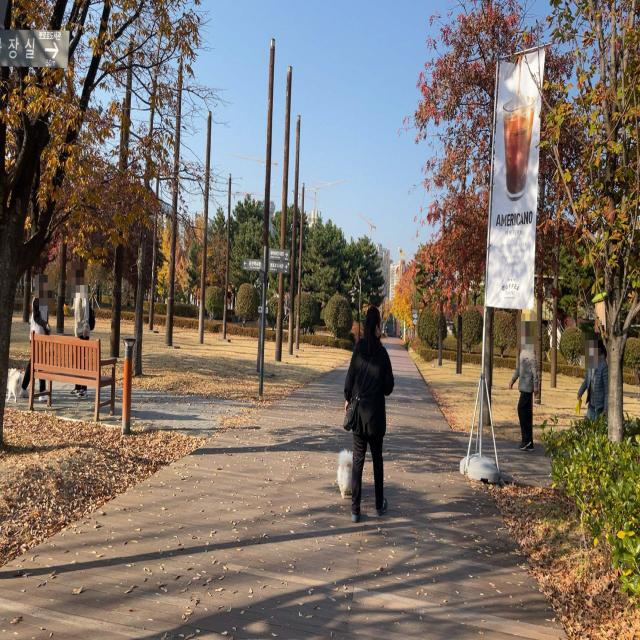Leashed_Dog: (337, 430, 362, 500)
